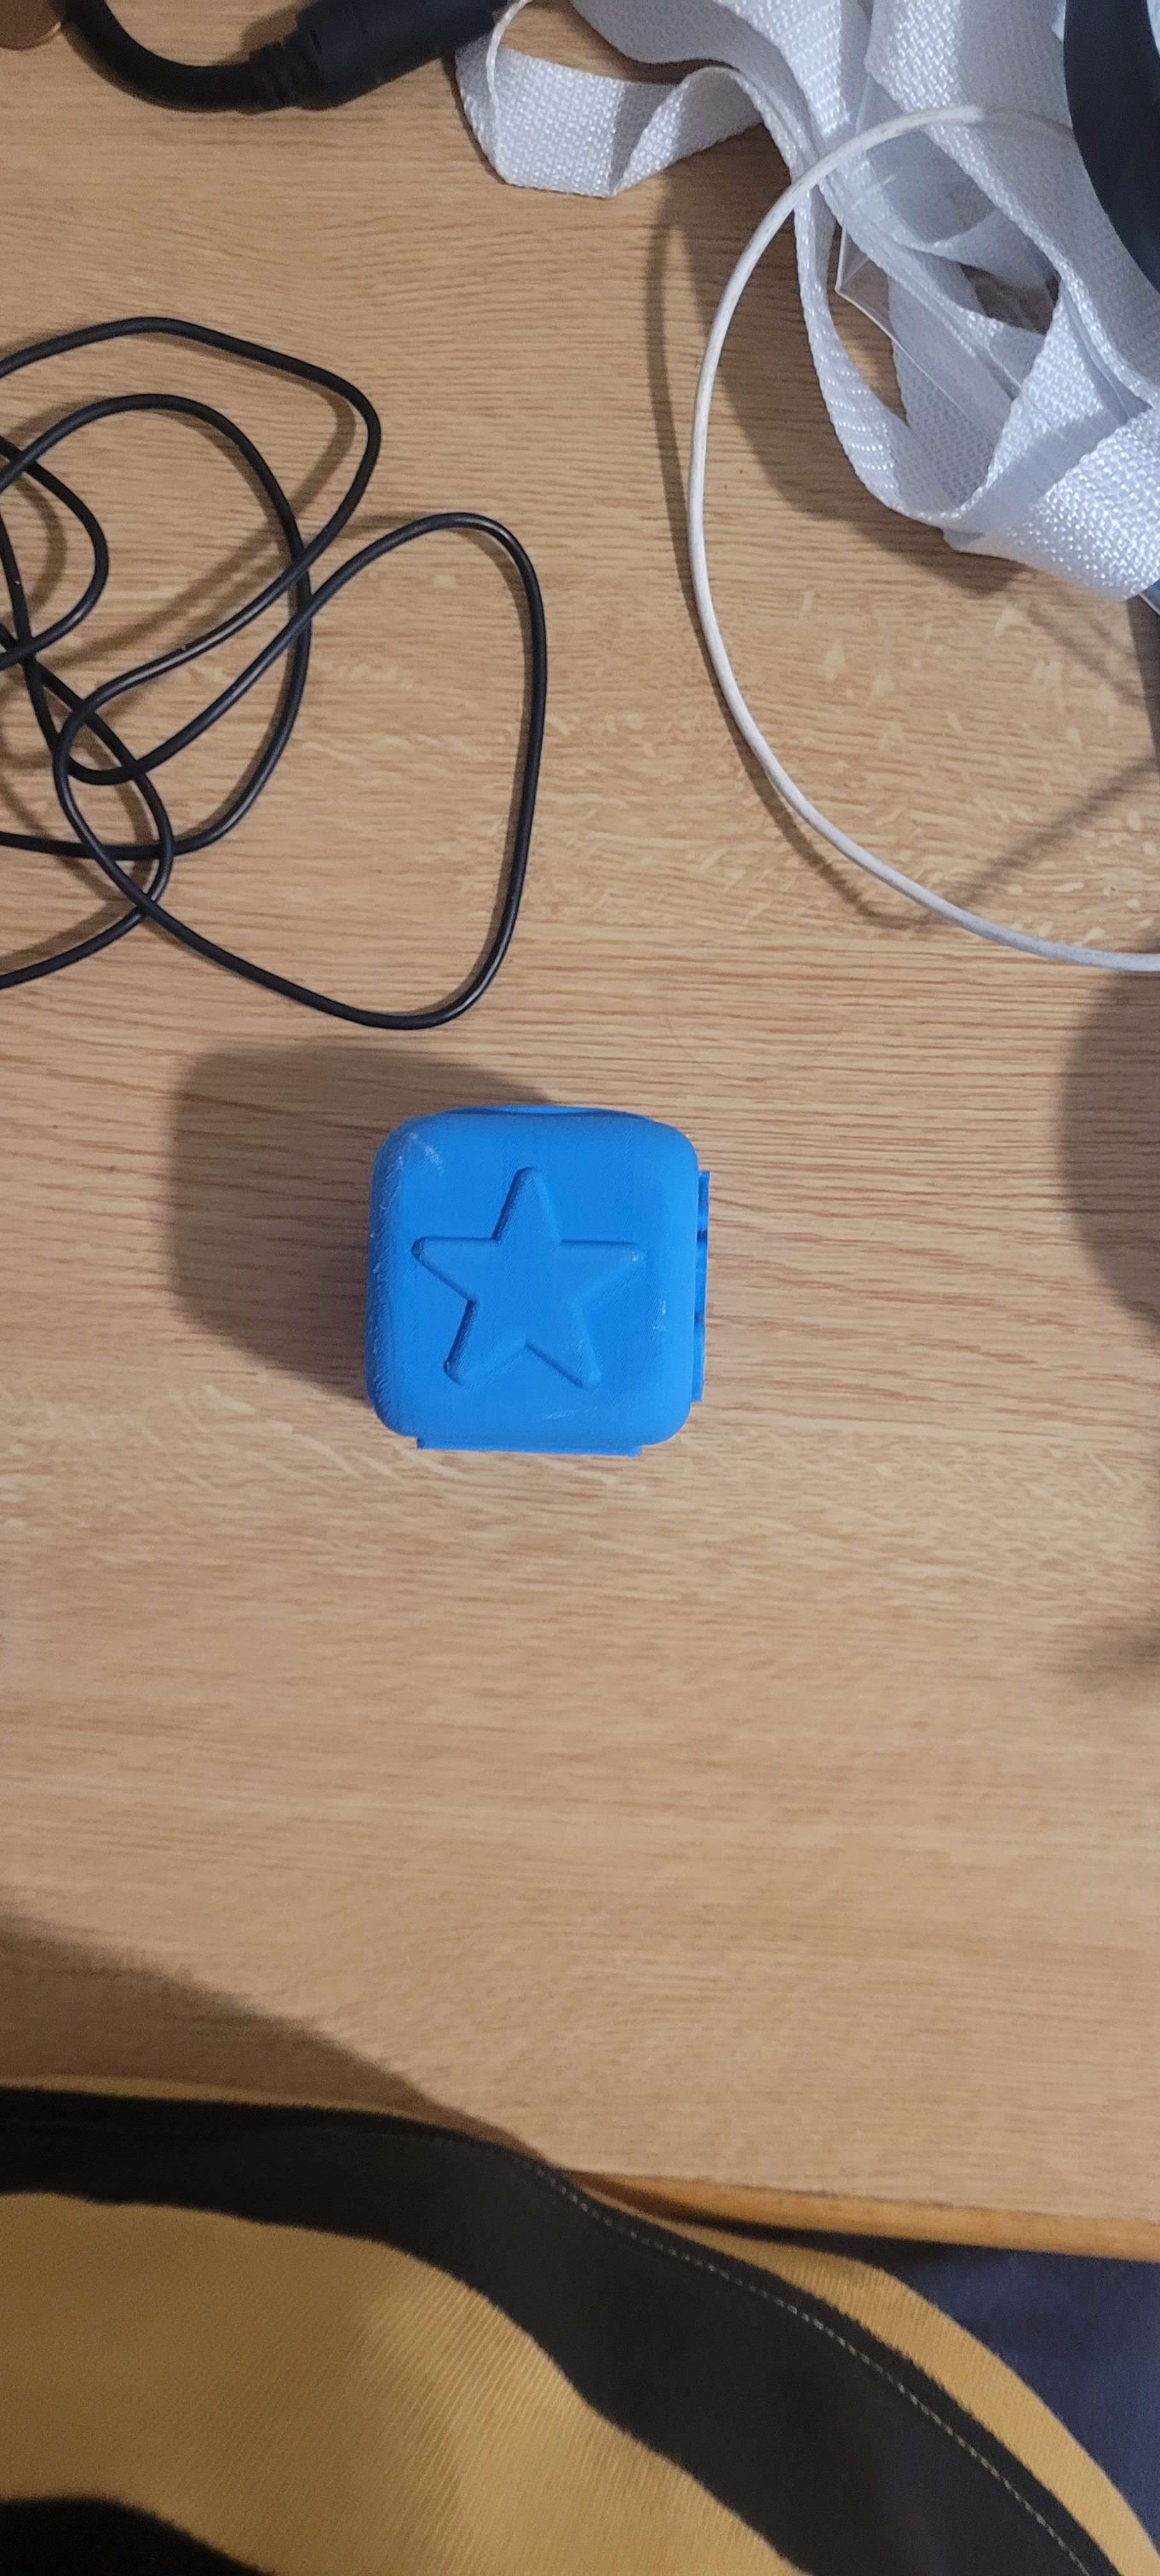Star: (353, 1132, 718, 1433)
